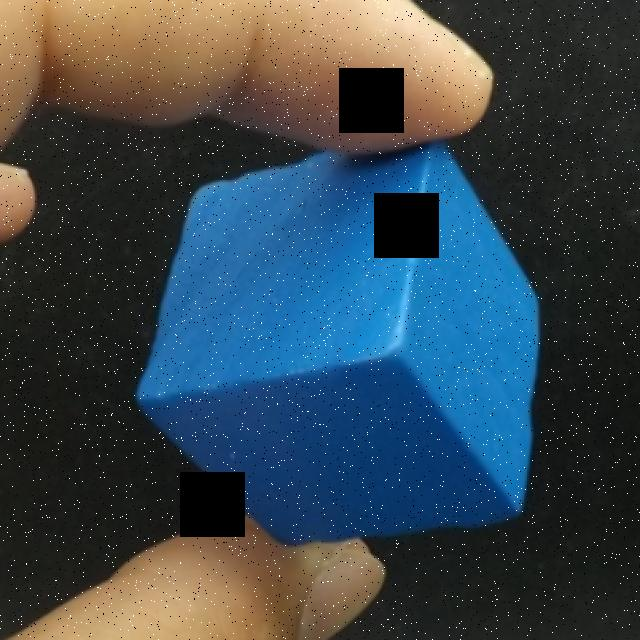bluecube: (134, 144, 541, 548)
